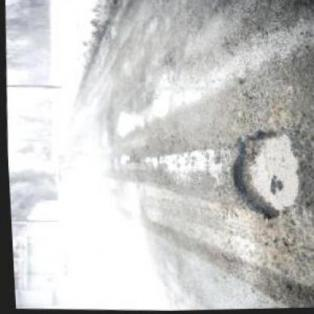Hueco: (221, 127, 303, 224)
